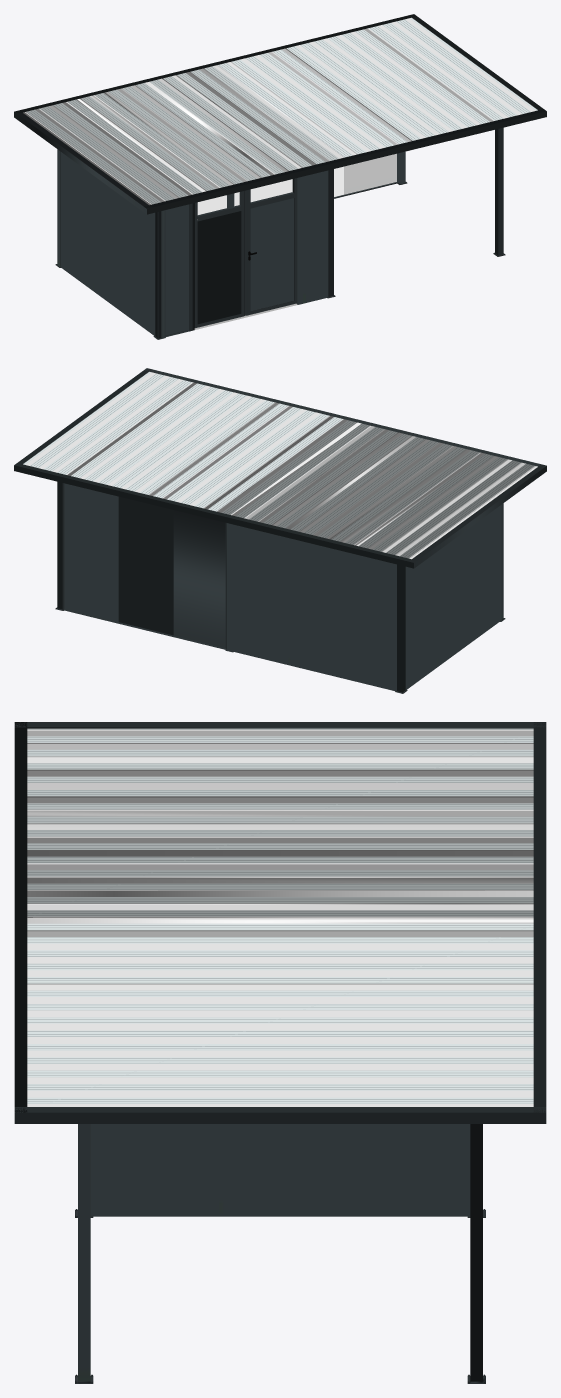
3 renders of one model, top to bottom at view 1: azimuth 30°, elevation 25°; view 2: azimuth 150°, elevation 25°; view 3: azimuth 270°, elevation 25°, orthographic. The views are drawn at different scales.
Visible parts, largest first — view 1: priximbattable_net_abris_de_jardin_640009_pool_house_azalee_, folha, folha_2, porta_avec_hublot; view 2: priximbattable_net_abris_de_jardin_640009_pool_house_azalee_; view 3: priximbattable_net_abris_de_jardin_640009_pool_house_azalee_.
Boxes of the visible parts, x1=… form: priximbattable_net_abris_de_jardin_640009_pool_house_azalee_: x1=14, y1=14, x2=546, y2=339; folha: x1=194, y1=190, x2=247, y2=328; folha_2: x1=246, y1=178, x2=296, y2=315; porta_avec_hublot: x1=189, y1=176, x2=302, y2=331; priximbattable_net_abris_de_jardin_640009_pool_house_azalee_: x1=14, y1=368, x2=546, y2=693; priximbattable_net_abris_de_jardin_640009_pool_house_azalee_: x1=14, y1=722, x2=546, y2=1383.
Size of the model in its own units: 730 by 259 by 420.
1 material, 1 textured.
